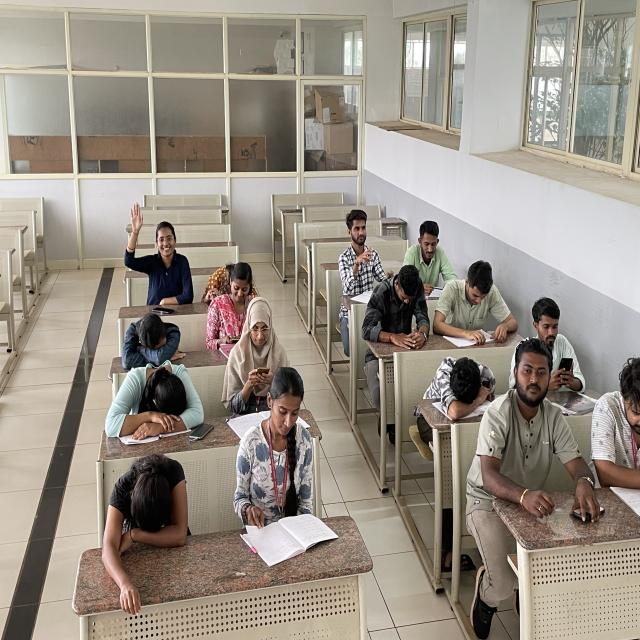Hand Rising: (123, 196, 196, 310)
Reading: (234, 364, 327, 554), (434, 261, 516, 352), (401, 215, 455, 297)
Sleeping: (97, 444, 197, 589), (101, 358, 208, 446), (419, 350, 493, 432), (110, 310, 188, 364)
Using Phone: (223, 292, 293, 417), (522, 291, 588, 402), (202, 258, 255, 351)
